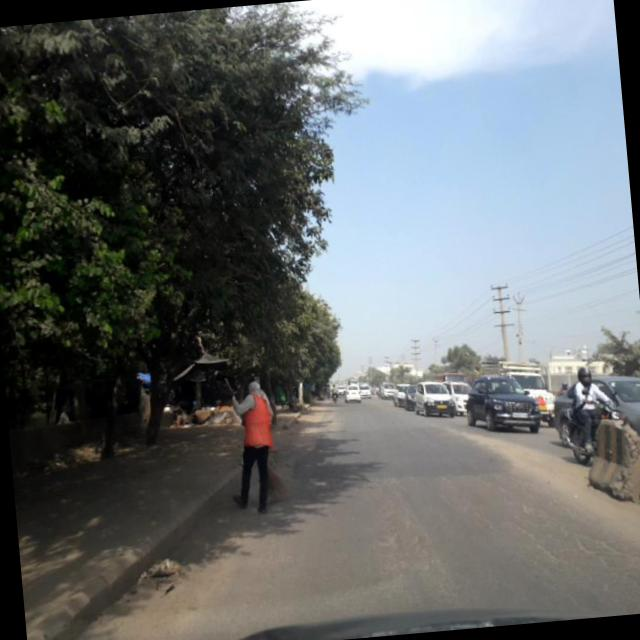crack: (496, 494, 629, 594)
